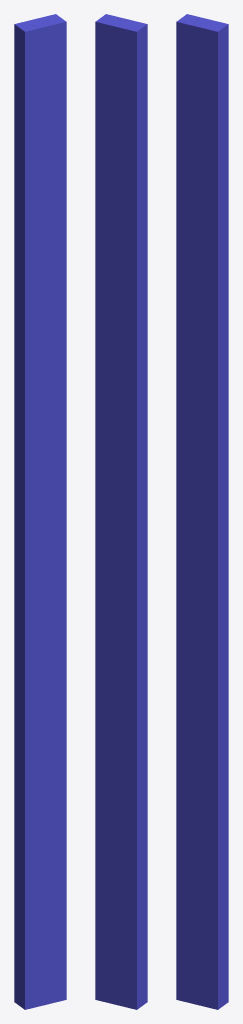
File: SciFi_pipes_01.DAE
3 renders of one model, left to right at view 1: azimuth 30°, elevation 25°; view 2: azimuth 150°, elevation 25°; view 3: azimuth 330°, elevation 25°, orthographic.
Parts seen in each view (by area): view 1: bounds; view 2: bounds; view 3: bounds.
Part boxes in pixels (<box>): bounds: <box>14,14,66,1009</box>; bounds: <box>95,14,147,1009</box>; bounds: <box>176,14,228,1009</box>.
Bounding box in the file's own units: 44.37 × 19.62 × 1000.
